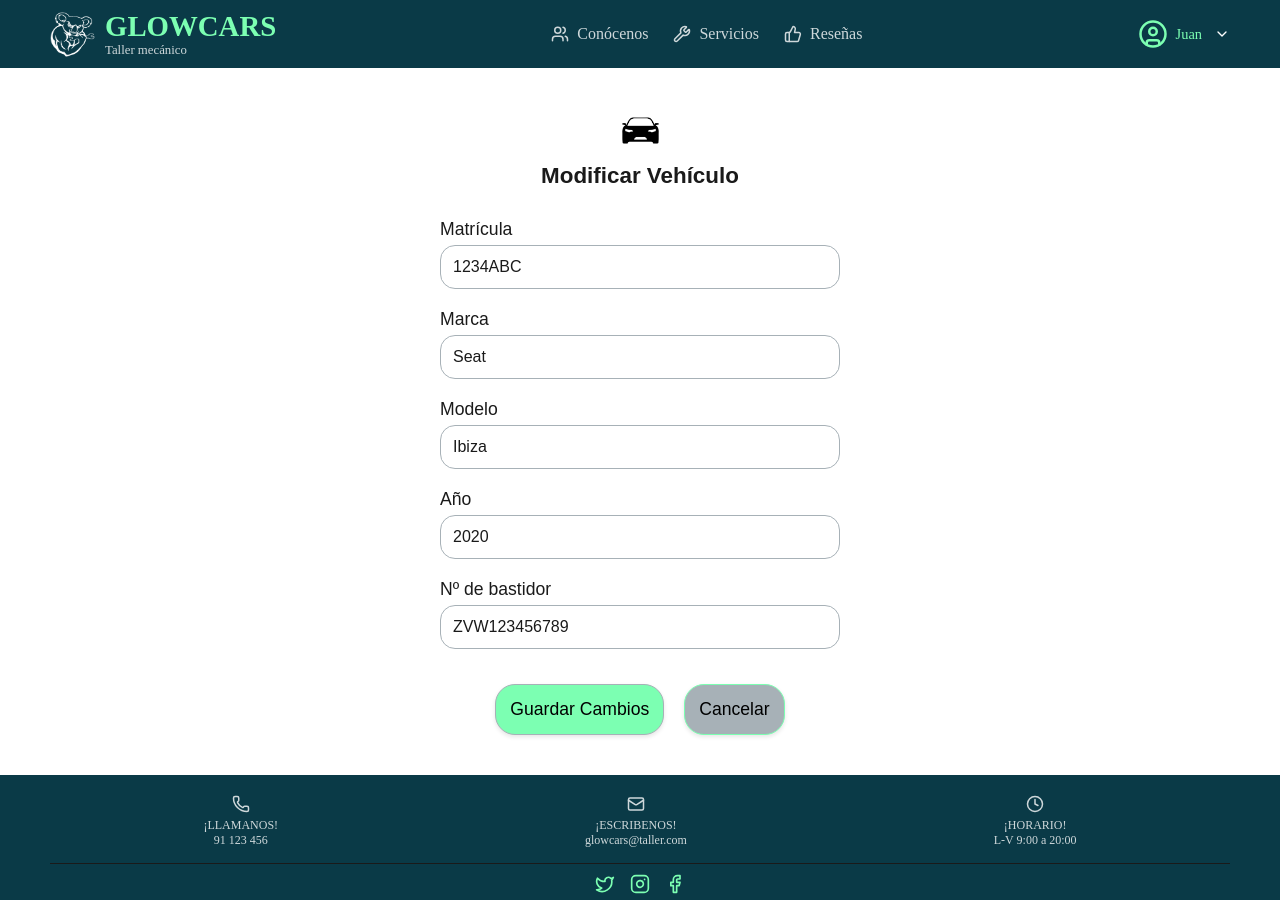
Test: Pruebas en <ModificarVehiculo /> › no debe permitir más de 4 caracteres en el campo año (fc_mat)
Simulamos input de 5 dígitos
Replace the text in the number field named "fc_mat" with "20225": (640, 537) [440,515,840,559]
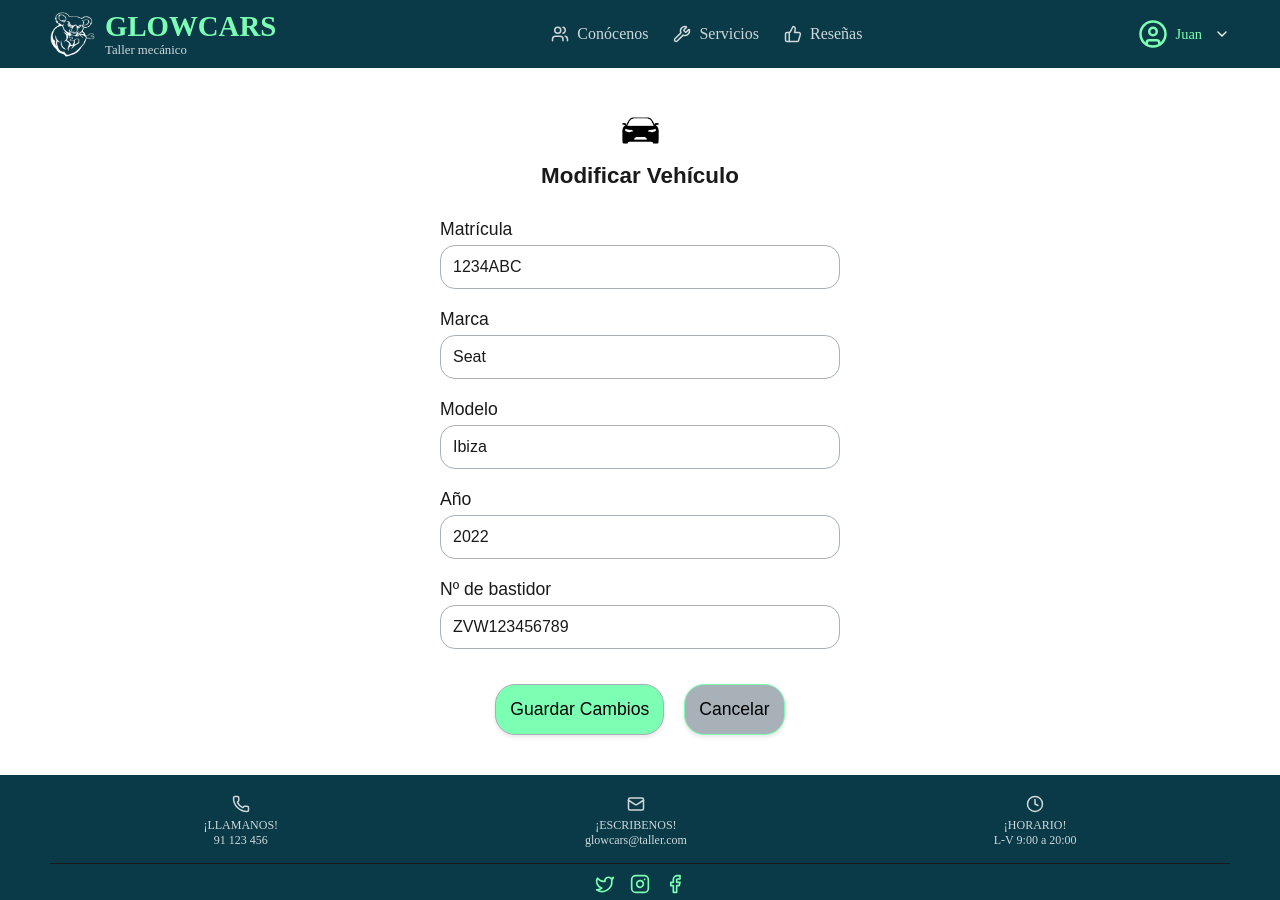
Expected: the number field named "fc_mat" holds "2022", [440,515,840,559]
